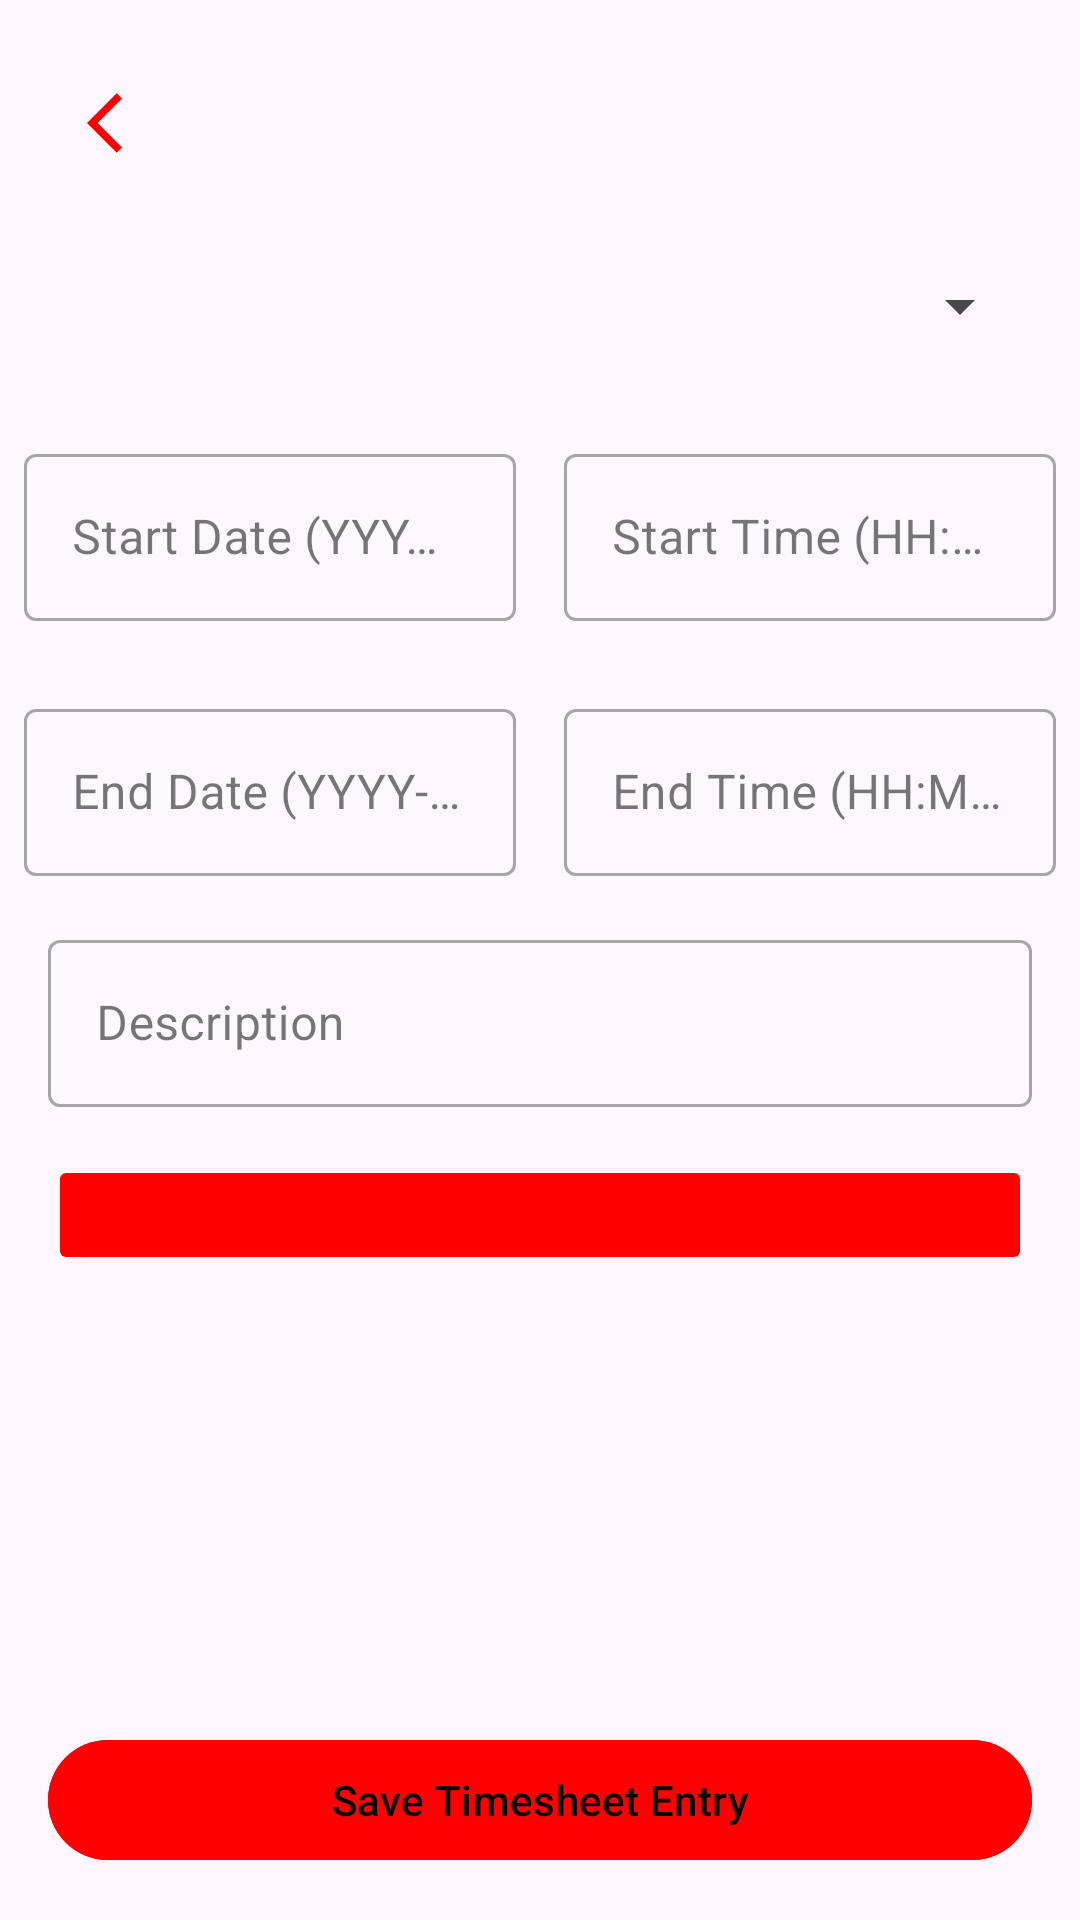

Named icons in this screenshot (1080*1920) and their bounding boxes, (x1, y1, x2, y2):
Back: (87, 93, 122, 153)
